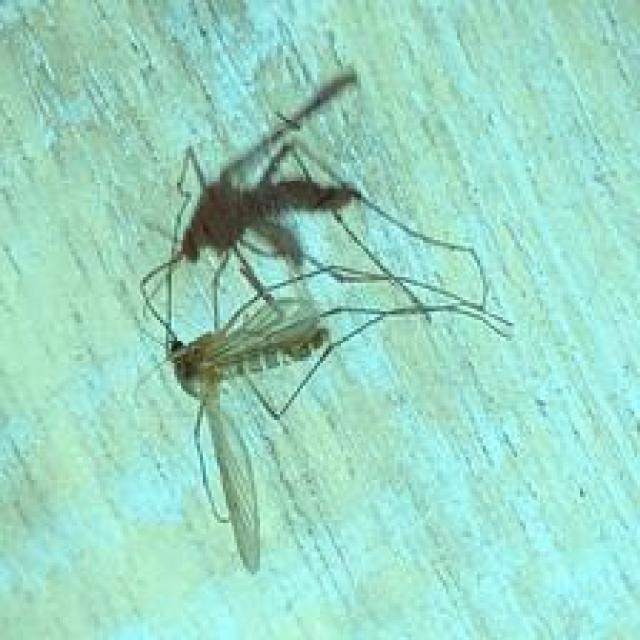Culex: (132, 67, 514, 582)
